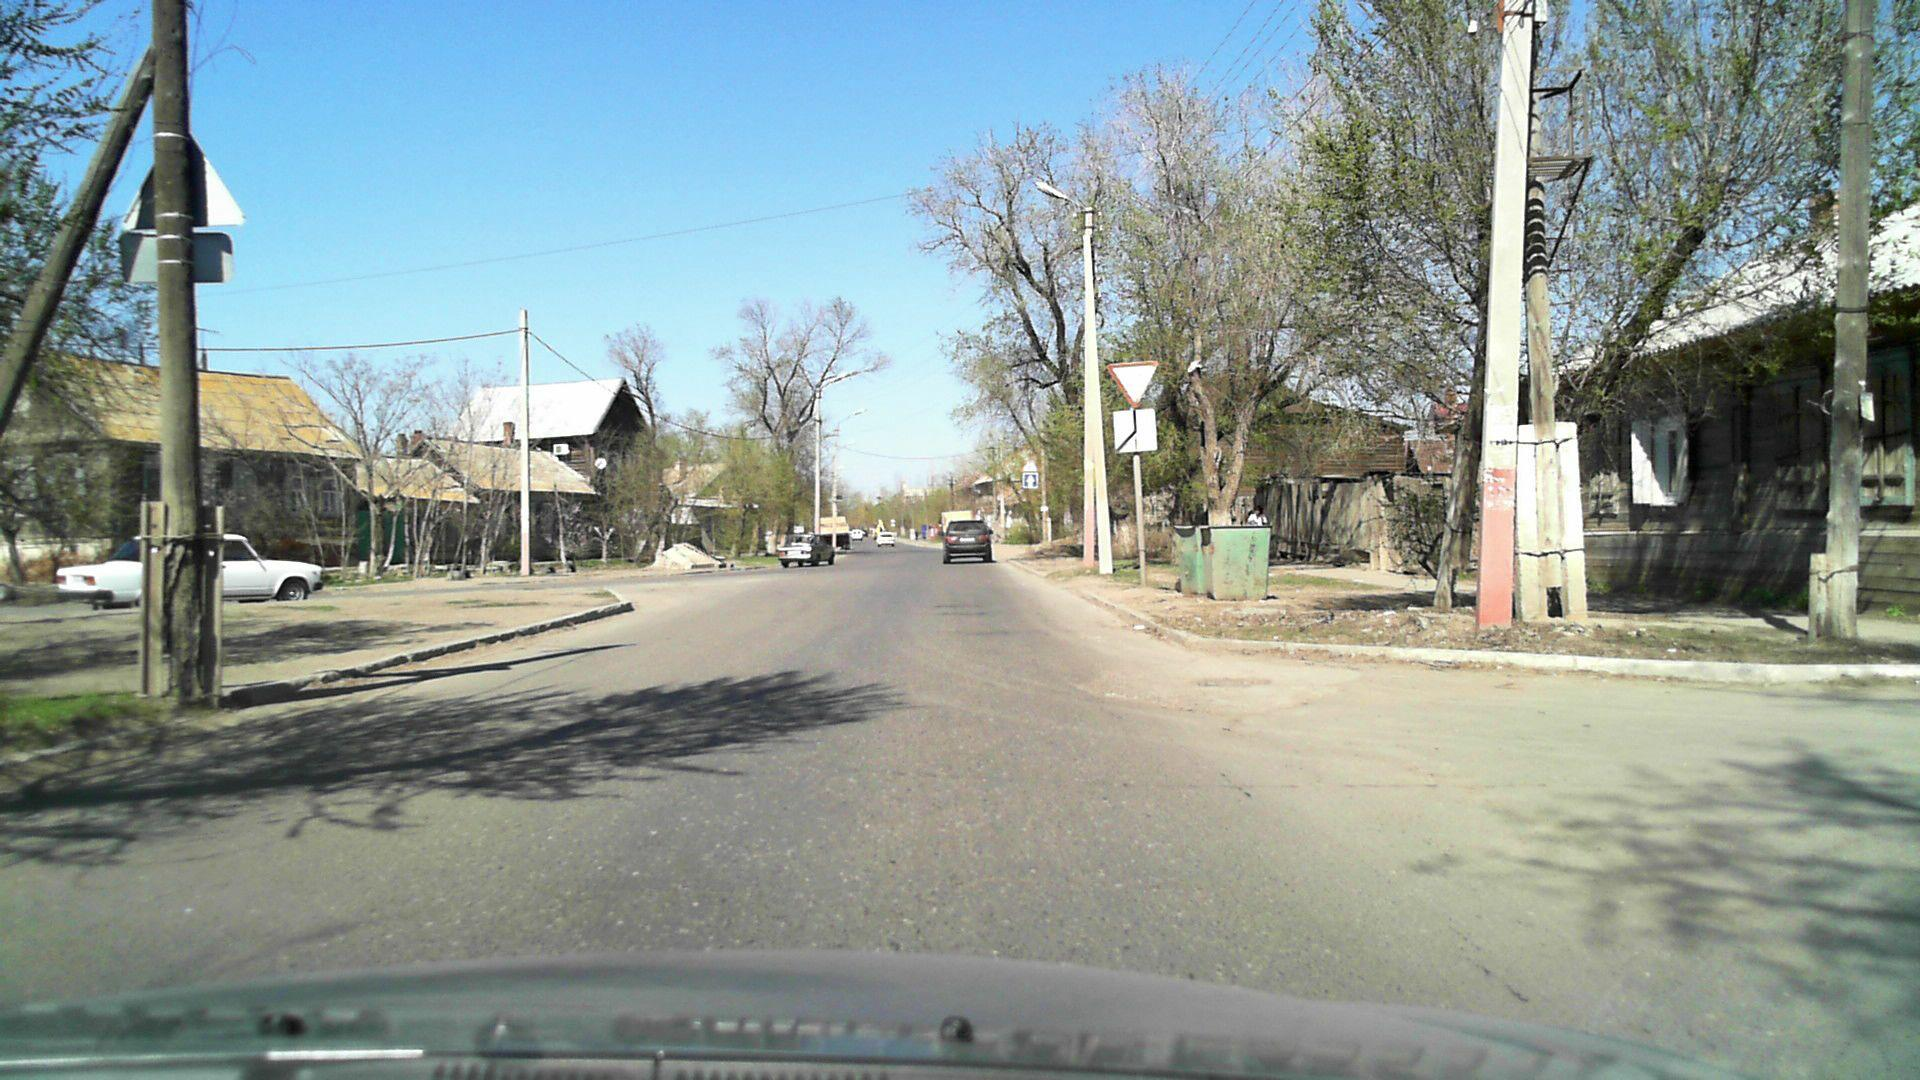2_4: (1106, 358, 1159, 404)
5_5: (1022, 473, 1040, 490)
8_13: (1111, 408, 1159, 452)
